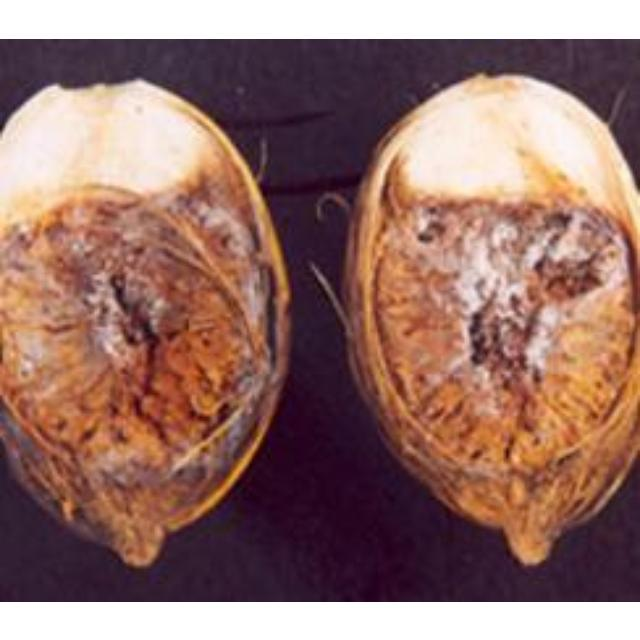damaged: (341, 72, 637, 570), (0, 77, 294, 573)
